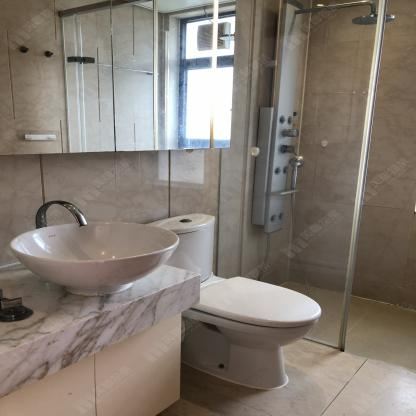Faucet: (30, 196, 91, 229)
Toilet: (146, 212, 324, 390)
Toilet Sink: (8, 221, 179, 295)
